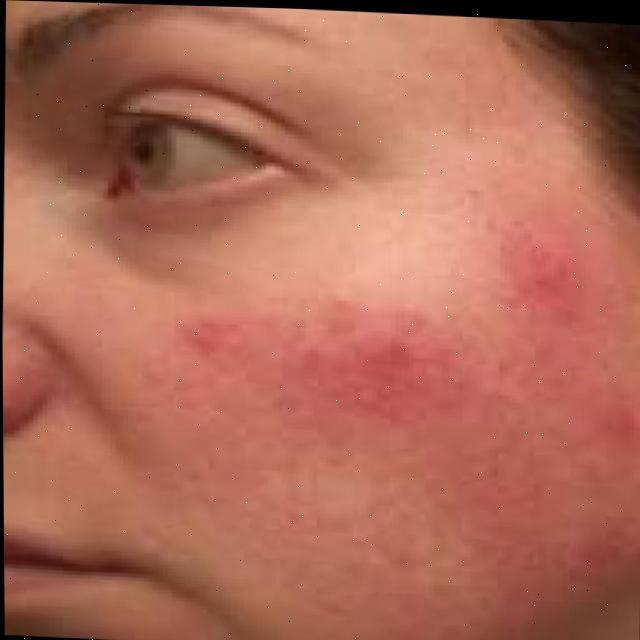Rosacea: (184, 236, 577, 427)
